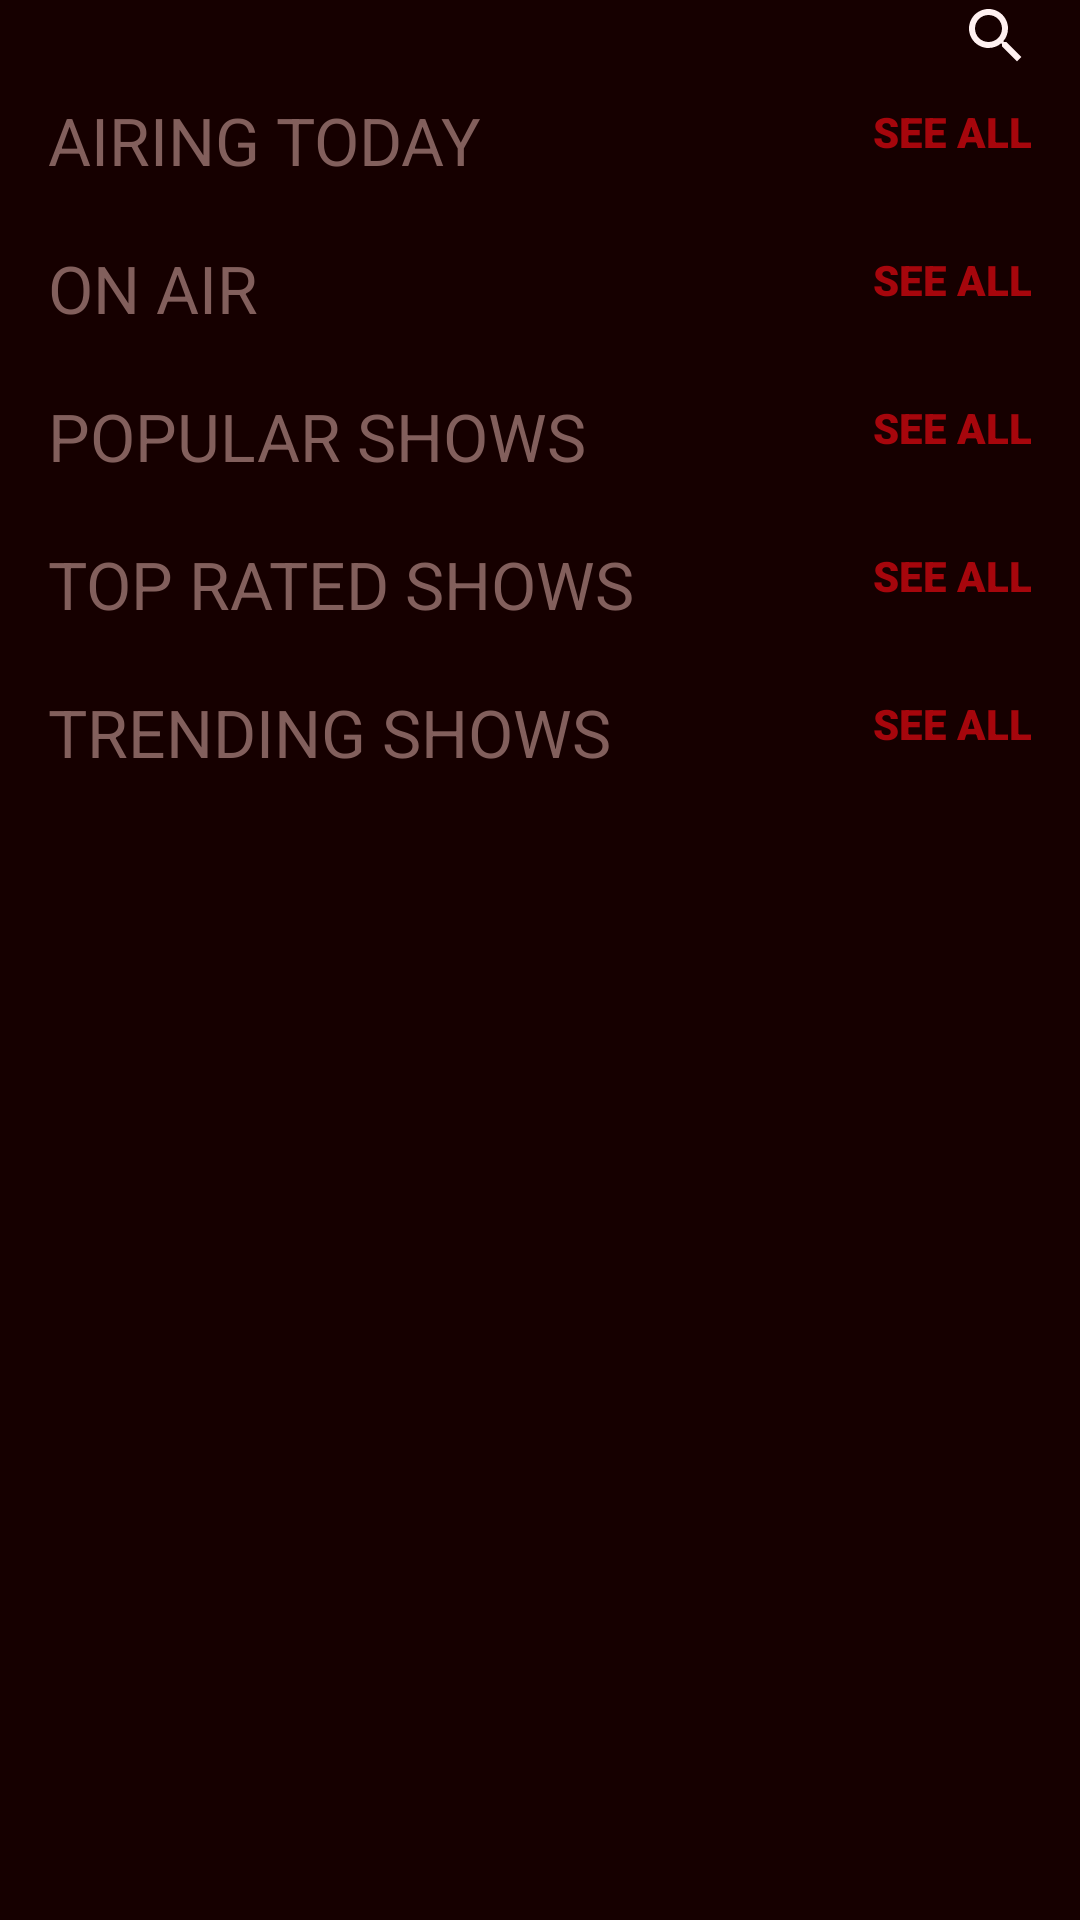

Named icons in this screenshot (1080 x 1920) and their bounding boxes, box(x1, y1, x2, y2):
search: box(969, 9, 1021, 61)
